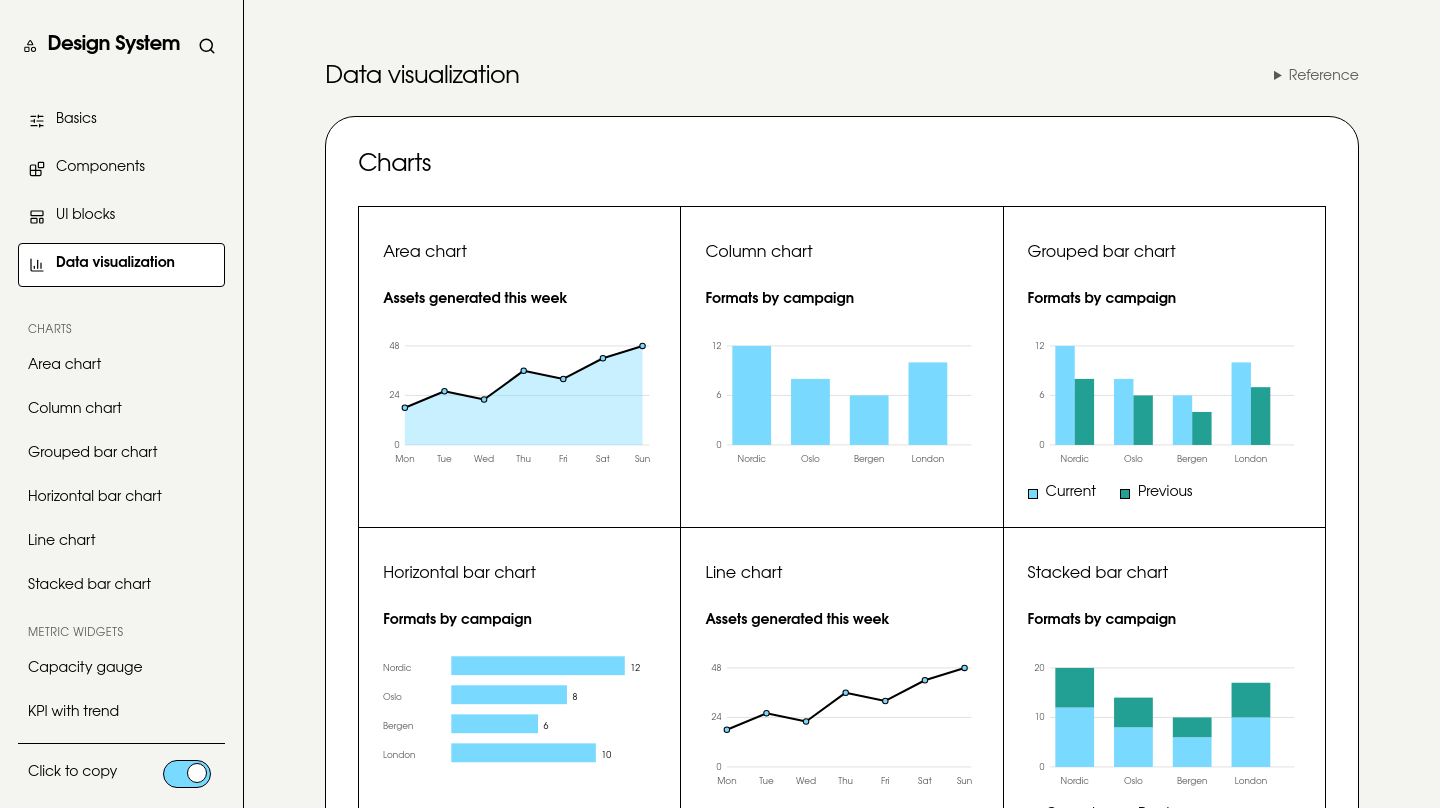
Test: filters the sidebar tree for sections that provide grouped navigation items
Click the button named "Search library" at (207, 46), box left=189, top=28, right=225, bottom=64
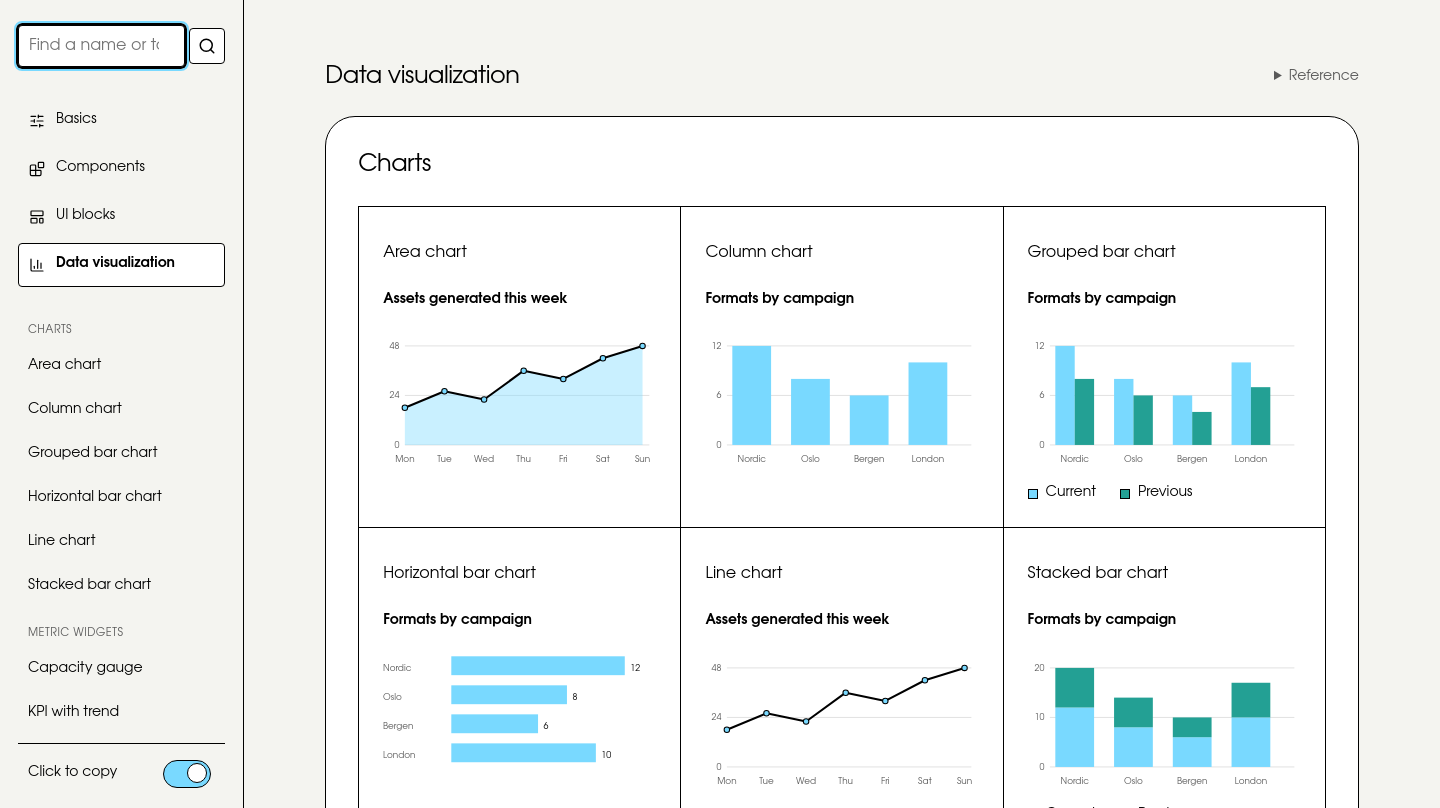
Type "token burn" into the search field with placeholder "Find a name or token" at (102, 46), box left=29, top=28, right=174, bottom=64
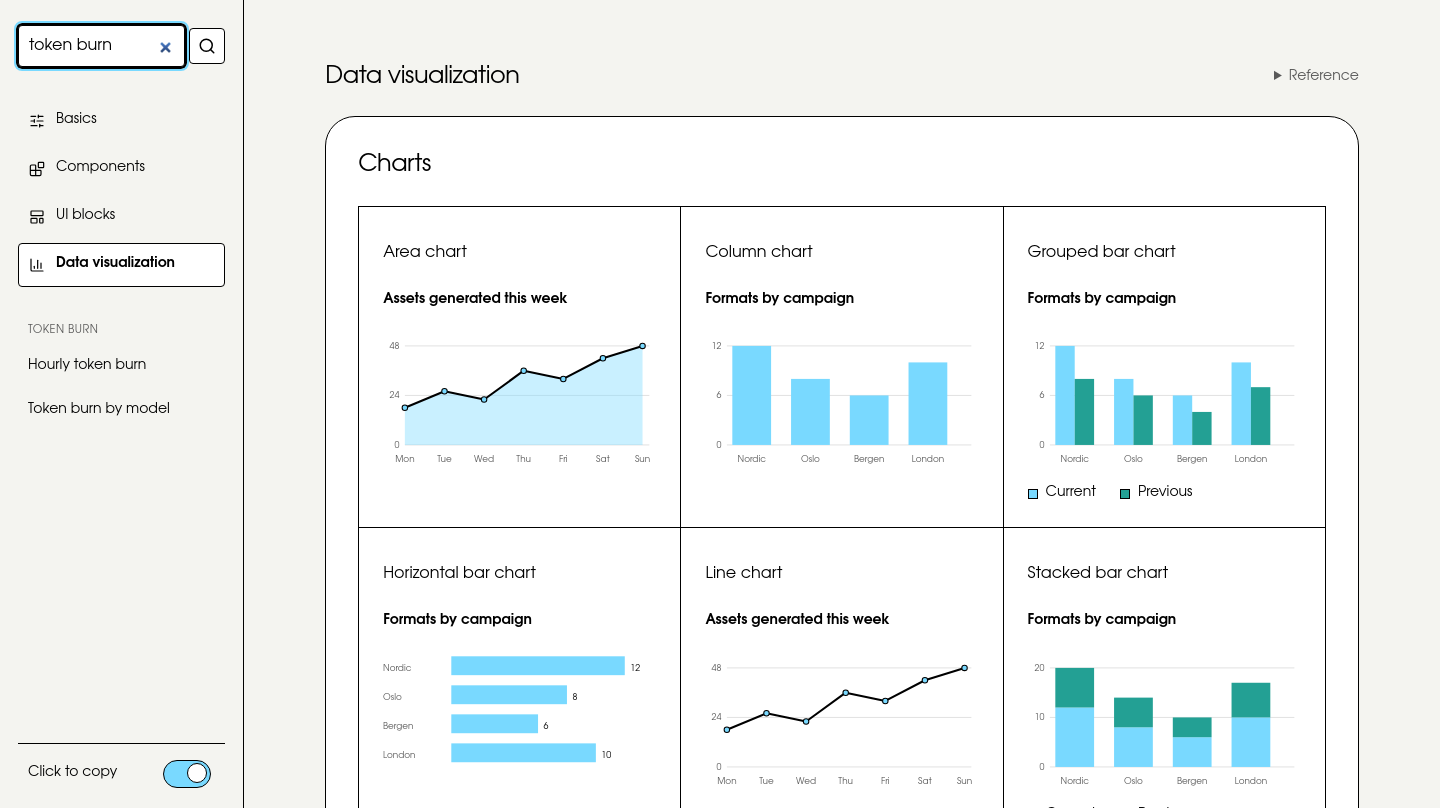
Check: the link "Hourly token burn" is shown, box left=28, top=359, right=146, bottom=373
